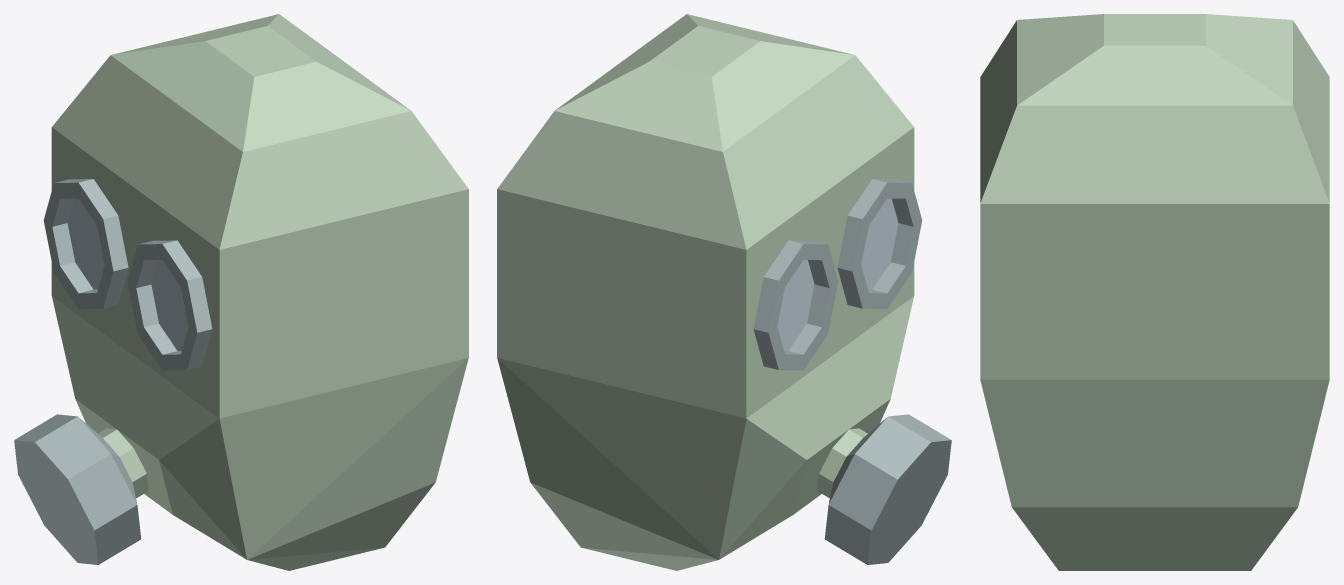
File: SurvivorHead.fbx
3 views of the same model, side by side, from view 1: azimuth 30°, elevation 25°; view 2: azimuth 150°, elevation 25°; view 3: azimuth 270°, elevation 25° (orthographic). The views are drawn at different scales.
Visible parts, largest first — view 1: SurvivorHead; view 2: SurvivorHead; view 3: SurvivorHead.
Part boxes in pixels (left/top/right/bottom): SurvivorHead: left=14, top=14, right=468, bottom=570; SurvivorHead: left=497, top=14, right=951, bottom=570; SurvivorHead: left=980, top=14, right=1329, bottom=570.
Bounding box in the file's own units: 0.2316 × 0.3043 × 0.1922.
